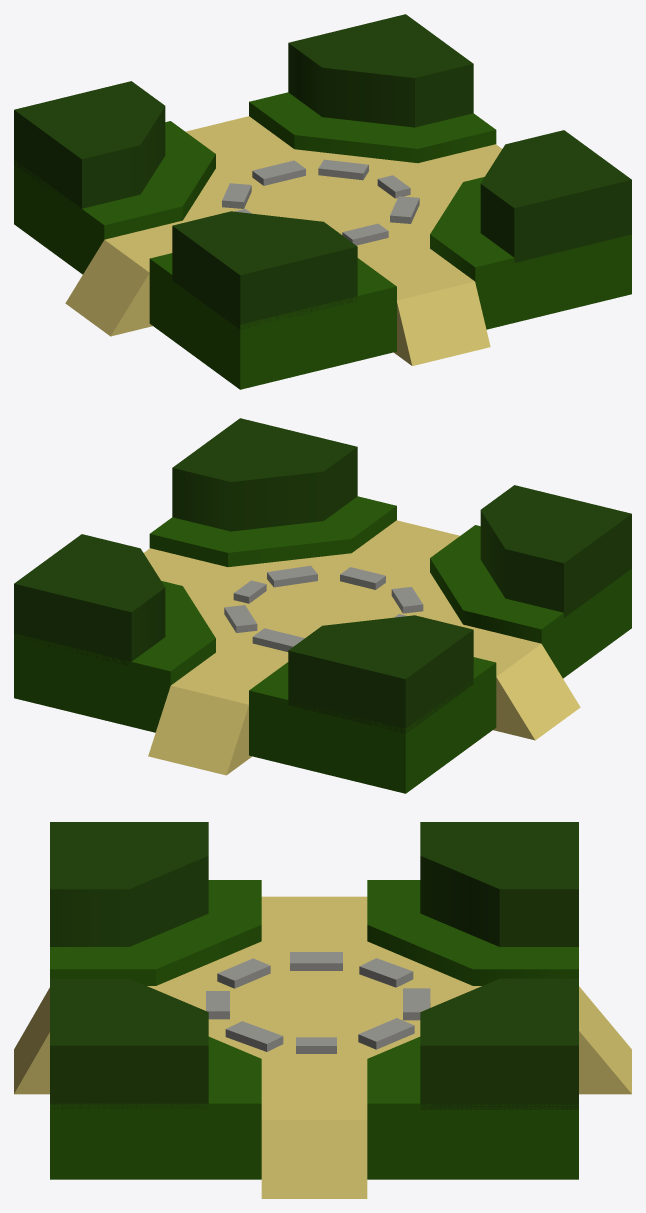
Rendered from garden_fourway.fbx.
The picture shows the model from 3 angles, top to bottom: view 1: azimuth 30°, elevation 25°; view 2: azimuth 150°, elevation 25°; view 3: azimuth 270°, elevation 25°; orthographic projection. The views are drawn at different scales.
Visible parts, largest first — view 1: polySurface941; view 2: polySurface941; view 3: polySurface941.
Boxes of the visible parts, <box> form: polySurface941: <box>14,14,631,389</box>; polySurface941: <box>14,418,631,793</box>; polySurface941: <box>14,822,631,1198</box>.
Bounding box in the file's own units: 117 × 28.75 × 117.
Materials: 1 (1 with a texture image).
